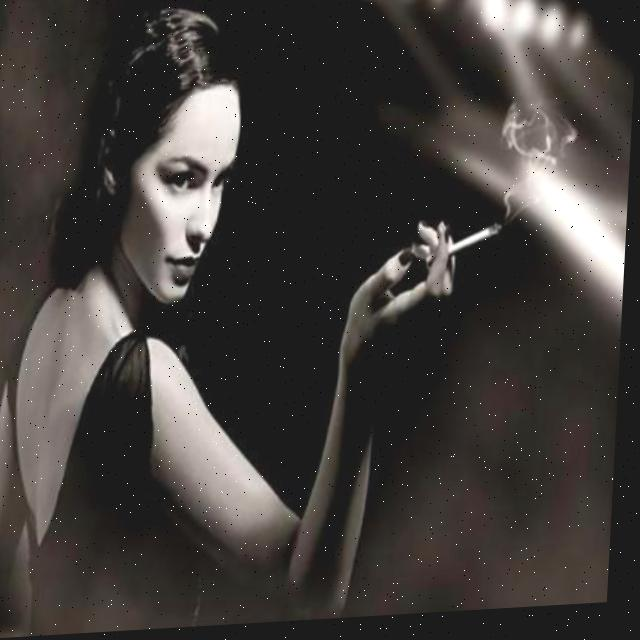cigarette: (451, 225, 504, 260)
